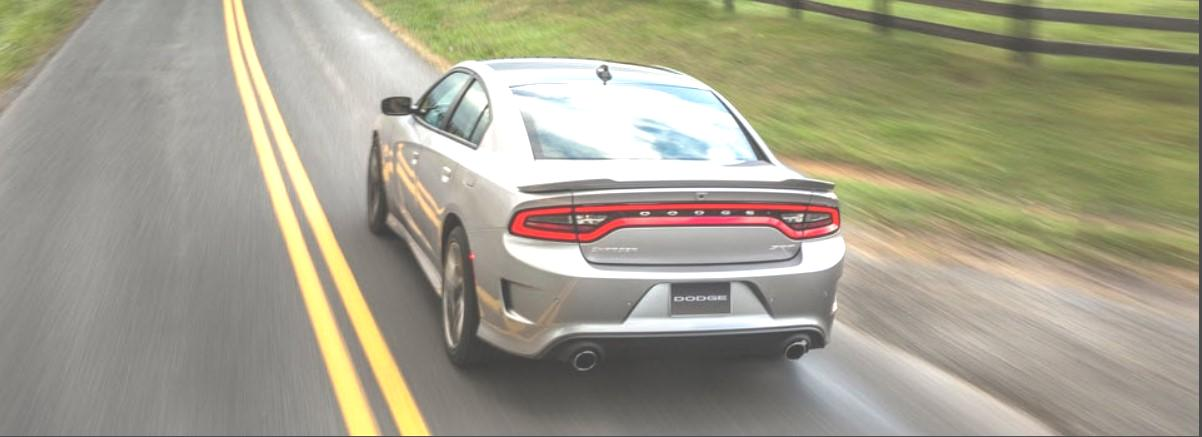dodge: (637, 202, 761, 227)
